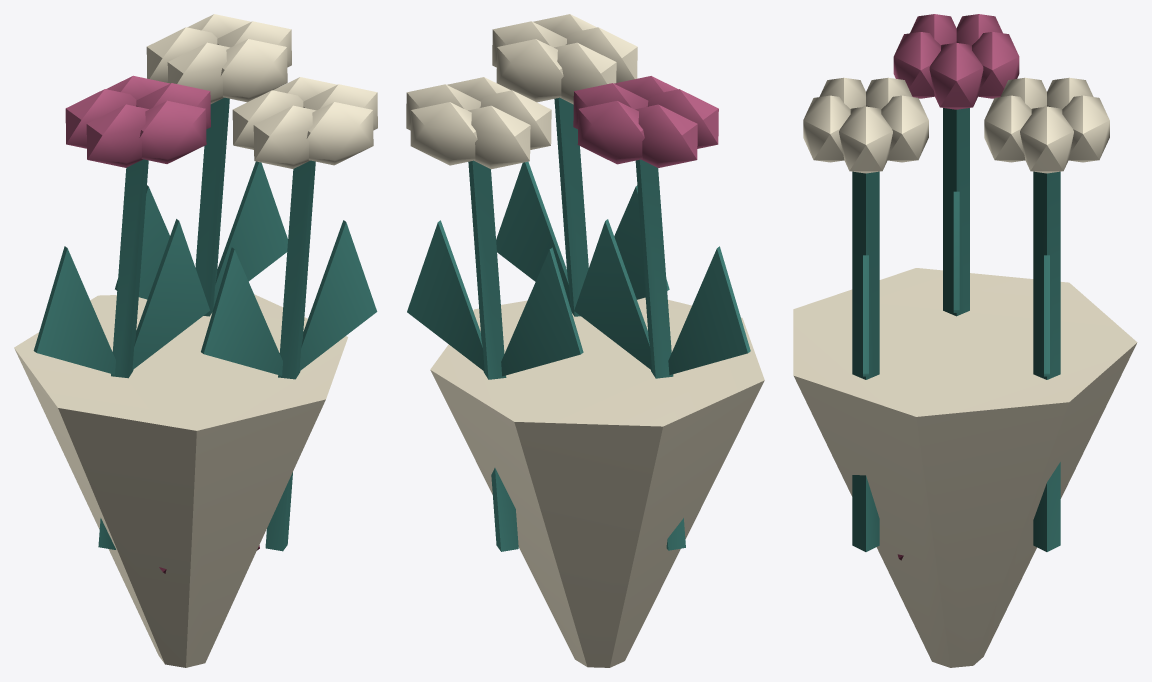
Rendered from item_bouquet.glb.
3 renders of one model, left to right at view 1: azimuth 30°, elevation 25°; view 2: azimuth 150°, elevation 25°; view 3: azimuth 270°, elevation 25°, orthographic. The views are drawn at different scales.
Visible parts, largest first — view 1: item_bouquet; view 2: item_bouquet; view 3: item_bouquet.
Part boxes in pixels (x1,y1,x2,y2): item_bouquet: (14,14,377,667); item_bouquet: (406,14,764,667); item_bouquet: (793,14,1137,667).
Size of the model in its own units: 0.2413 by 0.4445 by 0.2281.
